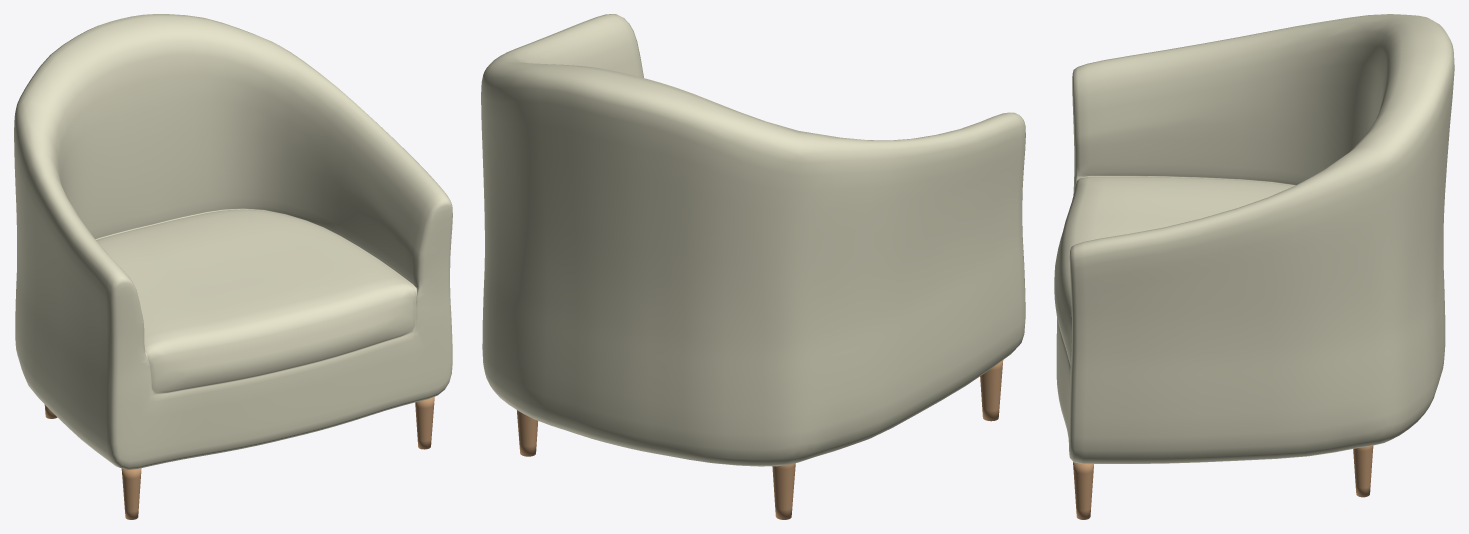
File: sofa1#6.fbx
The picture shows the model from 3 angles, left to right: view 1: azimuth 30°, elevation 25°; view 2: azimuth 150°, elevation 25°; view 3: azimuth 270°, elevation 25°; orthographic projection. The views are drawn at different scales.
Visible parts, largest first — view 1: Loft02, Object01; view 2: Loft02, Object01; view 3: Loft02, Object01.
Boxes of the visible parts, box(x1,y1,x2,y2) form: Loft02: box(14, 14, 452, 470); Object01: box(44, 397, 434, 519); Loft02: box(481, 14, 1025, 466); Object01: box(517, 360, 1003, 519); Loft02: box(1054, 14, 1454, 463); Object01: box(1073, 445, 1373, 519).
Bounding box in the file's own units: 1.99 × 1.92 × 1.78.
